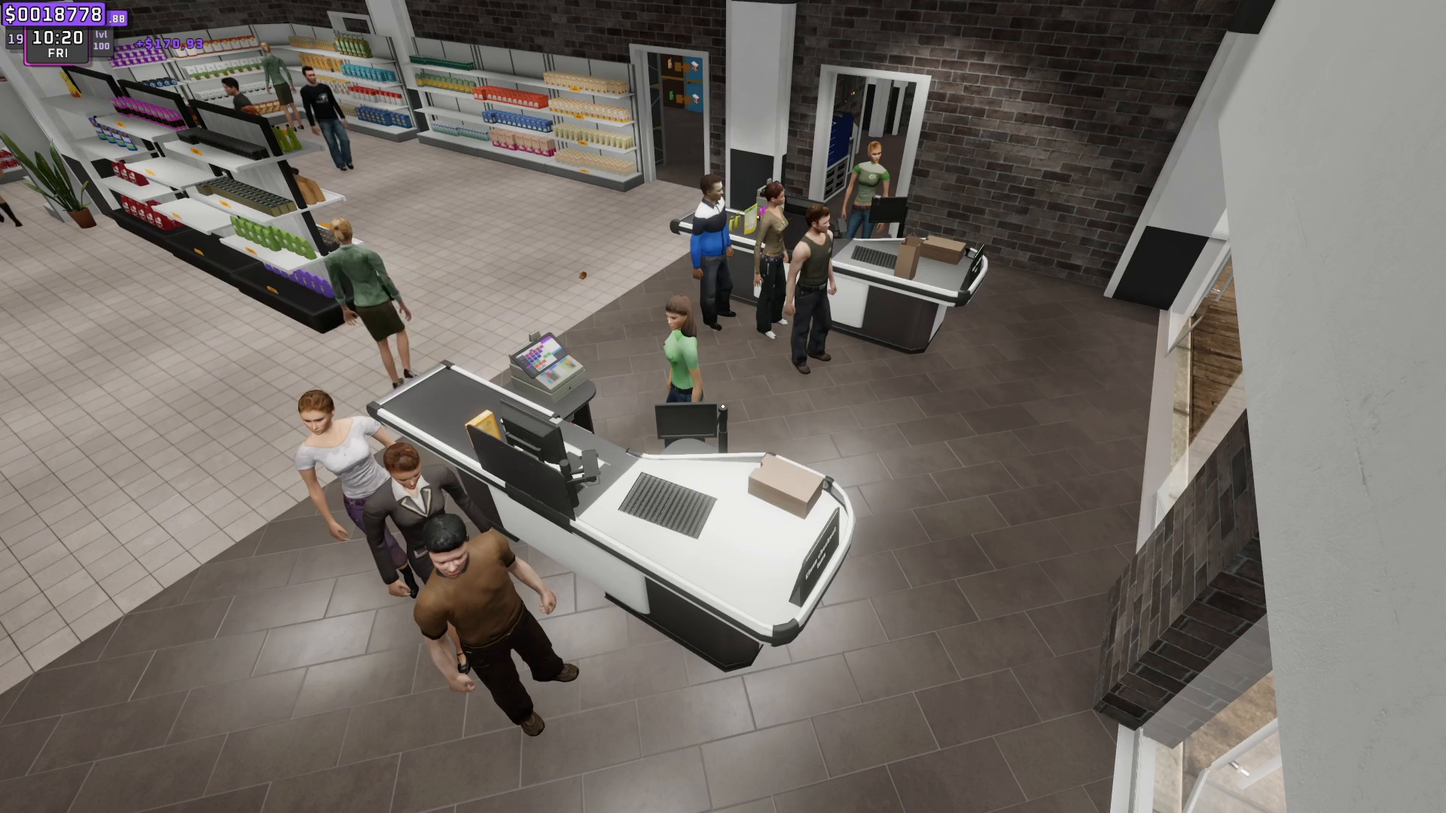Client: (420, 517, 579, 737), (277, 388, 412, 582), (370, 443, 469, 656), (794, 202, 844, 380), (697, 166, 741, 335), (750, 181, 788, 344)
Employee: (647, 296, 705, 402), (847, 142, 889, 233)
